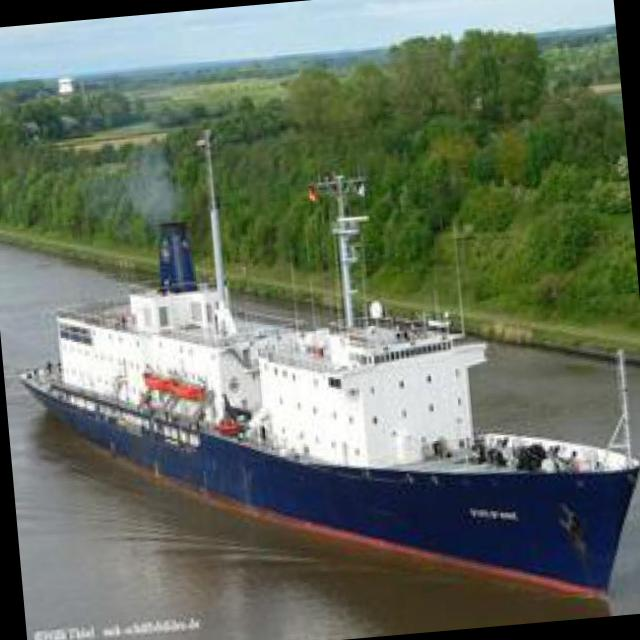boat: (11, 205, 640, 639)
